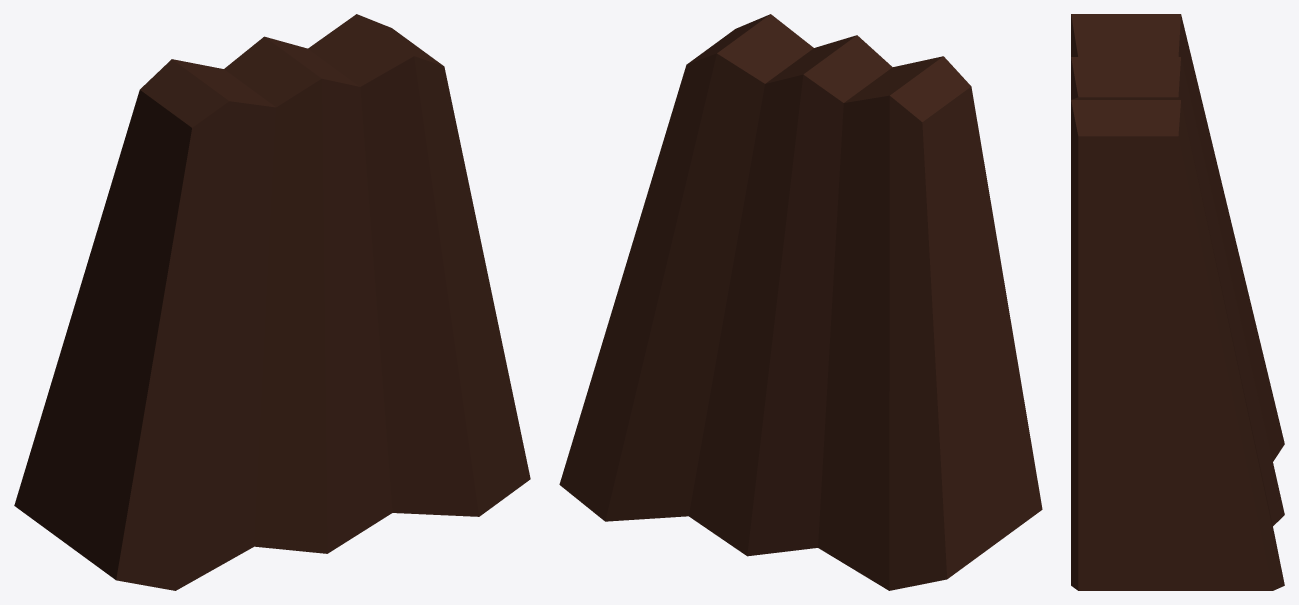
The model's file is усы не австрийского художника.fbx.
3 views of the same model, side by side, from view 1: azimuth 30°, elevation 25°; view 2: azimuth 150°, elevation 25°; view 3: azimuth 270°, elevation 25° (orthographic). The views are drawn at different scales.
Parts seen in each view (by area): view 1: Куб; view 2: Куб; view 3: Куб.
Part boxes in pixels (x1,y1,x2,y2): Куб: (14, 14, 530, 590); Куб: (559, 14, 1042, 590); Куб: (1071, 14, 1284, 590).
Bounding box in the file's own units: 7.75 × 8.51 × 3.62.
